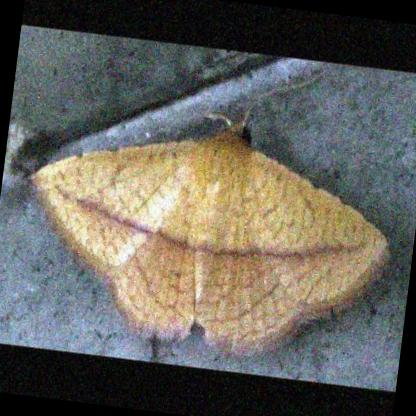Leaf Webber: (22, 111, 396, 366)
